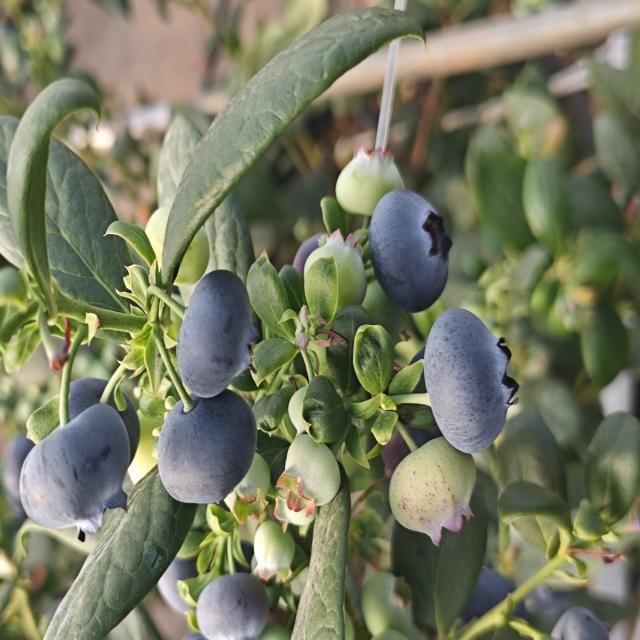ripe: (155, 266, 262, 508), (17, 401, 133, 544), (421, 306, 521, 456), (155, 388, 259, 508), (174, 268, 260, 402), (366, 187, 454, 316), (40, 375, 144, 474), (194, 569, 277, 635), (455, 561, 531, 622), (280, 219, 338, 292), (156, 538, 203, 619), (1, 427, 40, 505), (552, 594, 611, 639)
